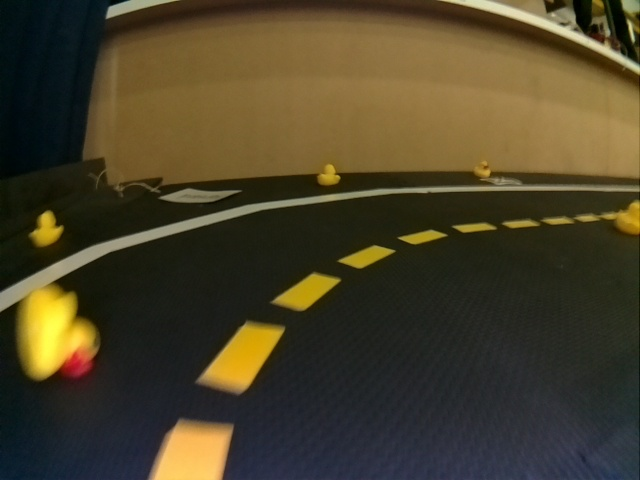Duckie: (19, 286, 98, 379), (30, 211, 62, 246), (615, 201, 637, 232), (317, 164, 340, 184), (475, 161, 490, 178)
QR code: (489, 177, 521, 186)
